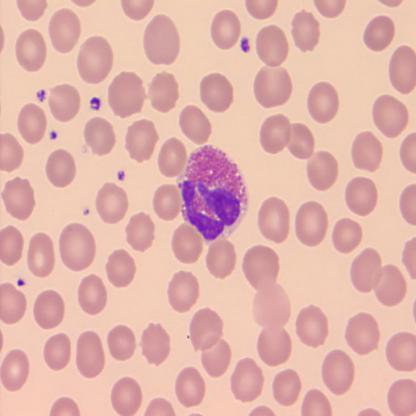Eosinophil: (177, 143, 249, 238)
